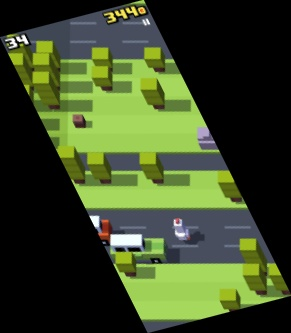car: (109, 235, 168, 265), (84, 215, 113, 243)
duck: (171, 218, 190, 242)
rock: (195, 126, 221, 149)
stump: (72, 114, 86, 128)
tree: (56, 145, 87, 185), (6, 52, 36, 91), (32, 72, 62, 109), (5, 35, 35, 71), (31, 53, 60, 89), (7, 33, 35, 69), (240, 238, 266, 276), (214, 169, 243, 203), (84, 152, 111, 184), (139, 78, 166, 109), (35, 40, 61, 72), (138, 153, 164, 184), (242, 264, 267, 296), (268, 263, 291, 296), (16, 84, 40, 114), (89, 65, 113, 91), (143, 48, 166, 75), (91, 47, 114, 73), (113, 252, 135, 277), (218, 289, 240, 313)
